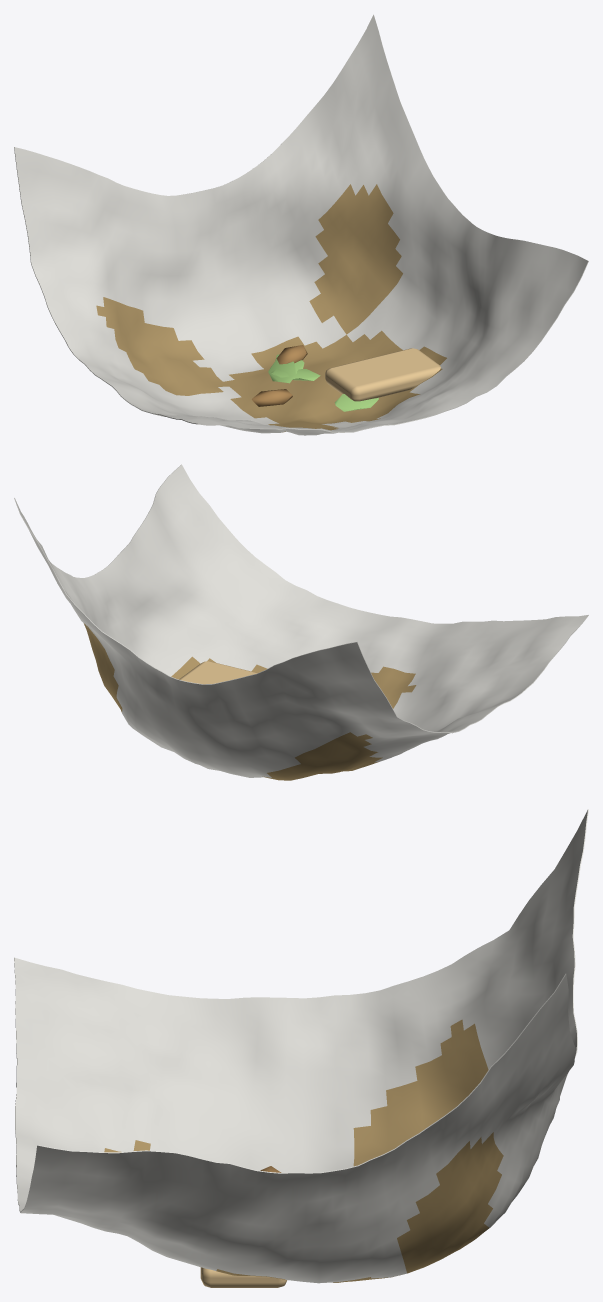
The model's file is kitchen_kebab_wrapper.fbx.
3 views of the same model, one above another, from view 1: azimuth 30°, elevation 25°; view 2: azimuth 150°, elevation 25°; view 3: azimuth 270°, elevation 25° (orthographic). The views are drawn at different scales.
Visible parts, largest first — view 1: kitchen_kebab_wrapper; view 2: kitchen_kebab_wrapper; view 3: kitchen_kebab_wrapper.
Part boxes in pixels (x1=…): kitchen_kebab_wrapper: x1=14, y1=14, x2=588, y2=435; kitchen_kebab_wrapper: x1=14, y1=464, x2=588, y2=780; kitchen_kebab_wrapper: x1=14, y1=809, x2=588, y2=1287.
Size of the model in its own units: 0.2561 by 0.1665 by 0.23.
